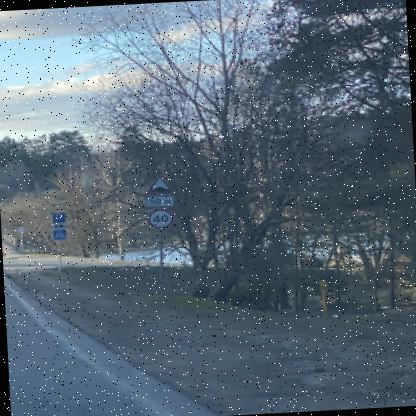crosswalk: (48, 226, 64, 240)
speedlimit: (145, 207, 170, 227)
